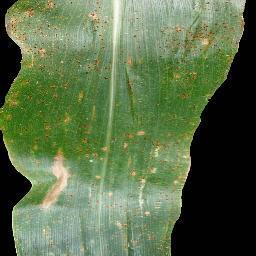Corn_Common_Rust: (3, 0, 248, 256)
